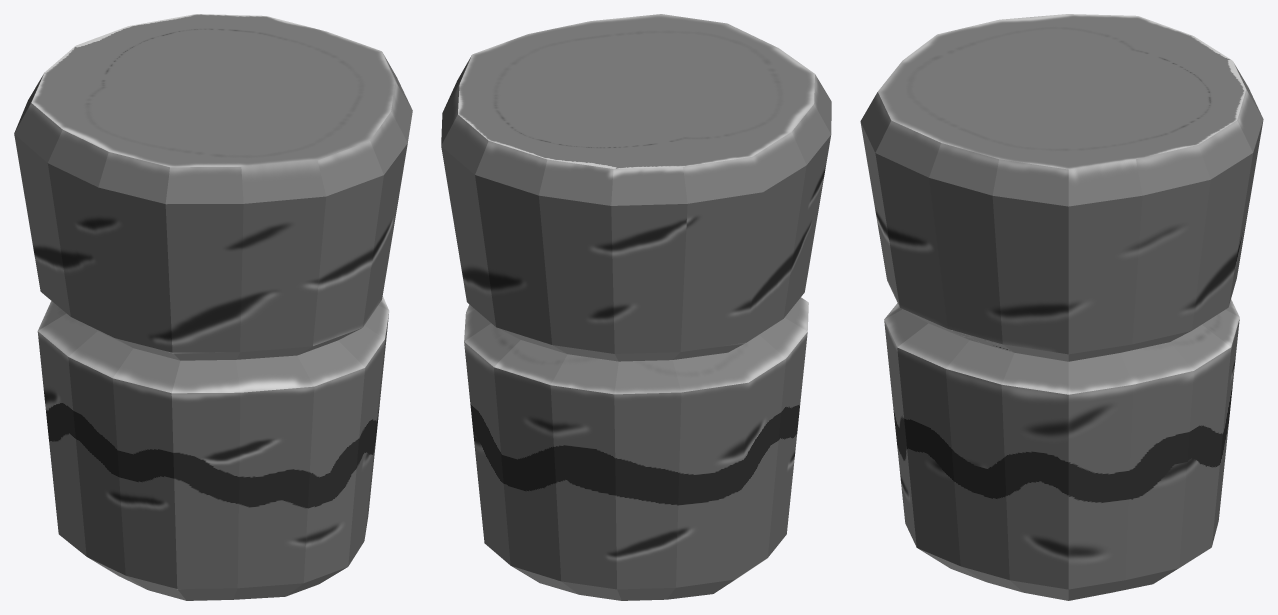
File: CanyonColumn.fbx
The picture shows the model from 3 angles, left to right: view 1: azimuth 30°, elevation 25°; view 2: azimuth 150°, elevation 25°; view 3: azimuth 270°, elevation 25°; orthographic projection.
Parts seen in each view (by area): view 1: Cylinder; view 2: Cylinder; view 3: Cylinder.
Part boxes in pixels (x1,y1,x2,y2): Cylinder: (14,14,412,600); Cylinder: (441,14,831,600); Cylinder: (860,14,1263,600).
Bounding box in the file's own units: 1332 × 1674 × 1333.
1 material, 1 textured.
